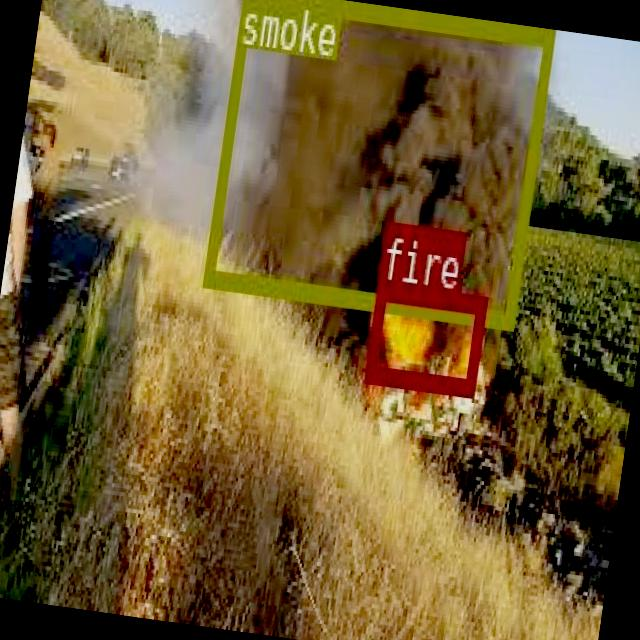fire: (363, 280, 486, 394)
smoke: (201, 0, 552, 324)
